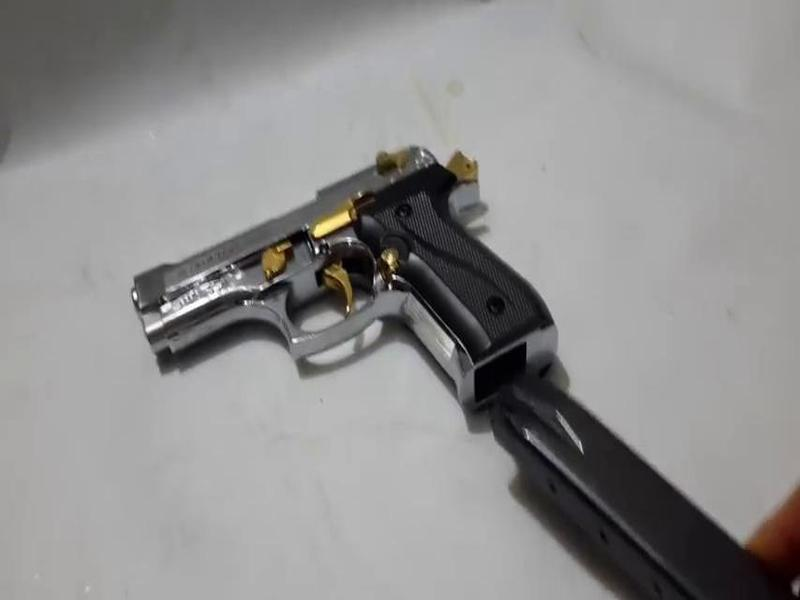Pistola: (142, 119, 583, 411)
